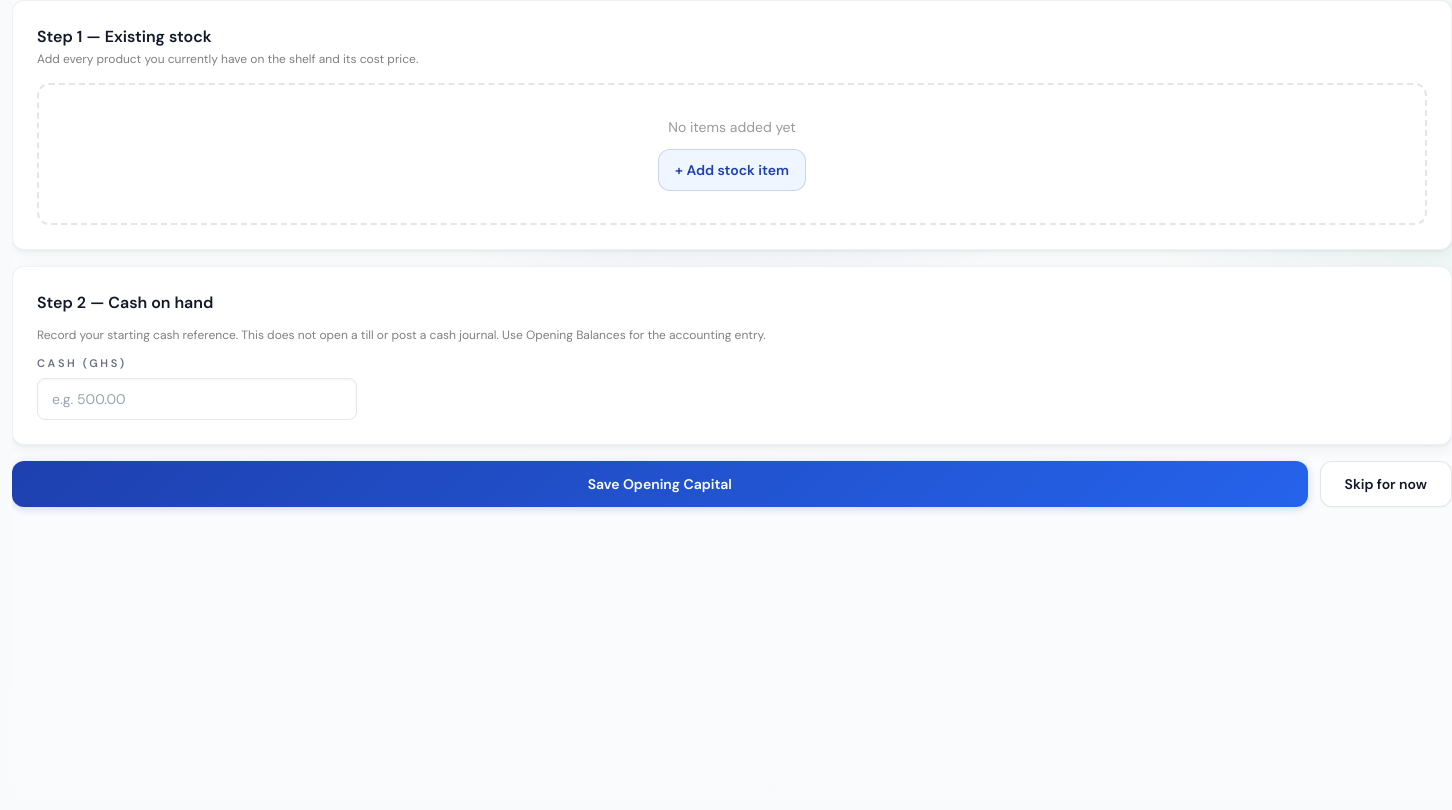
Test case: opening stock onboarding continuation › retains the result screen for established businesses and discloses missing costs
Click the button "+ Add stock item" at x=732, y=170, box left=658, top=149, right=806, bottom=191
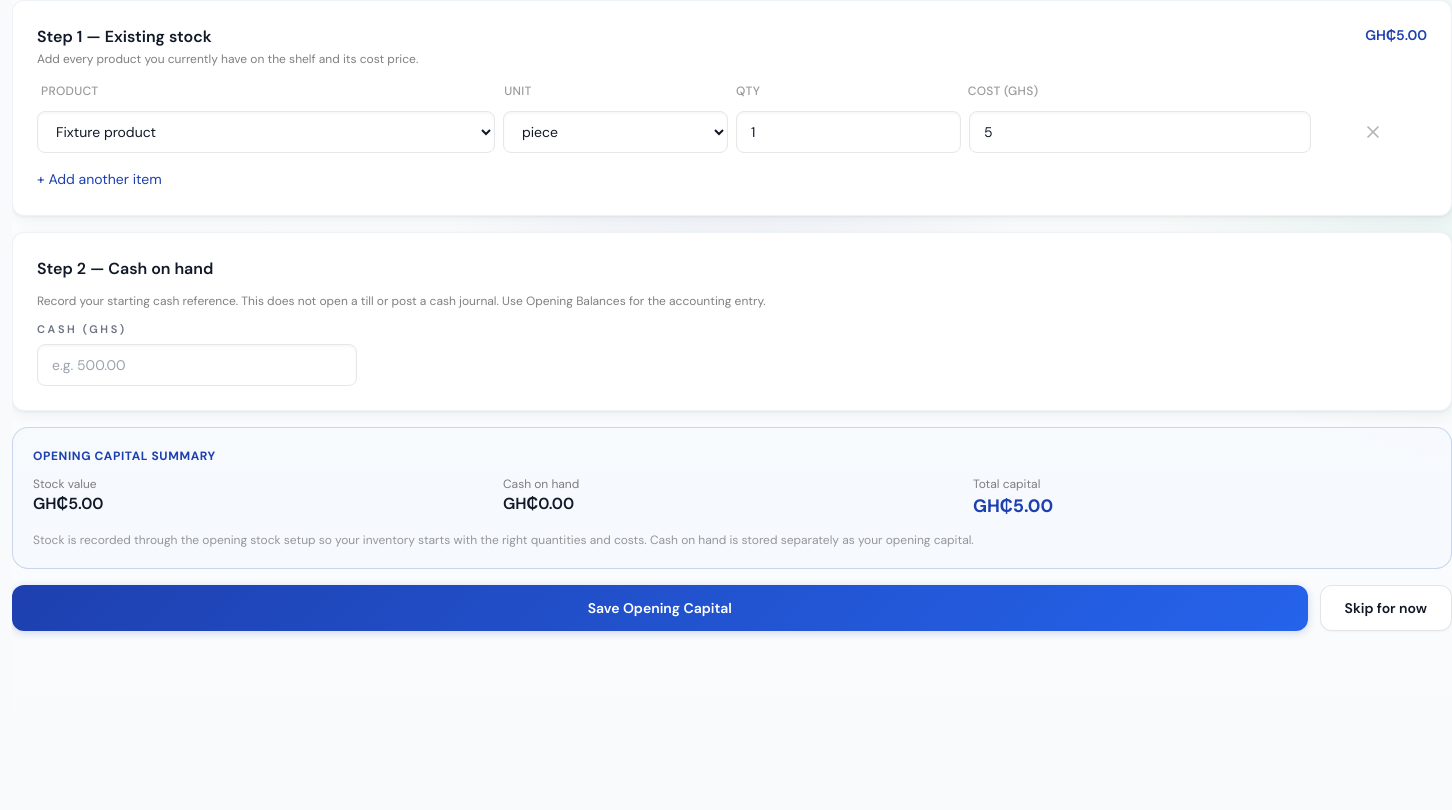
Click the button "Save Opening Capital" at x=660, y=608, box left=12, top=584, right=1308, bottom=630
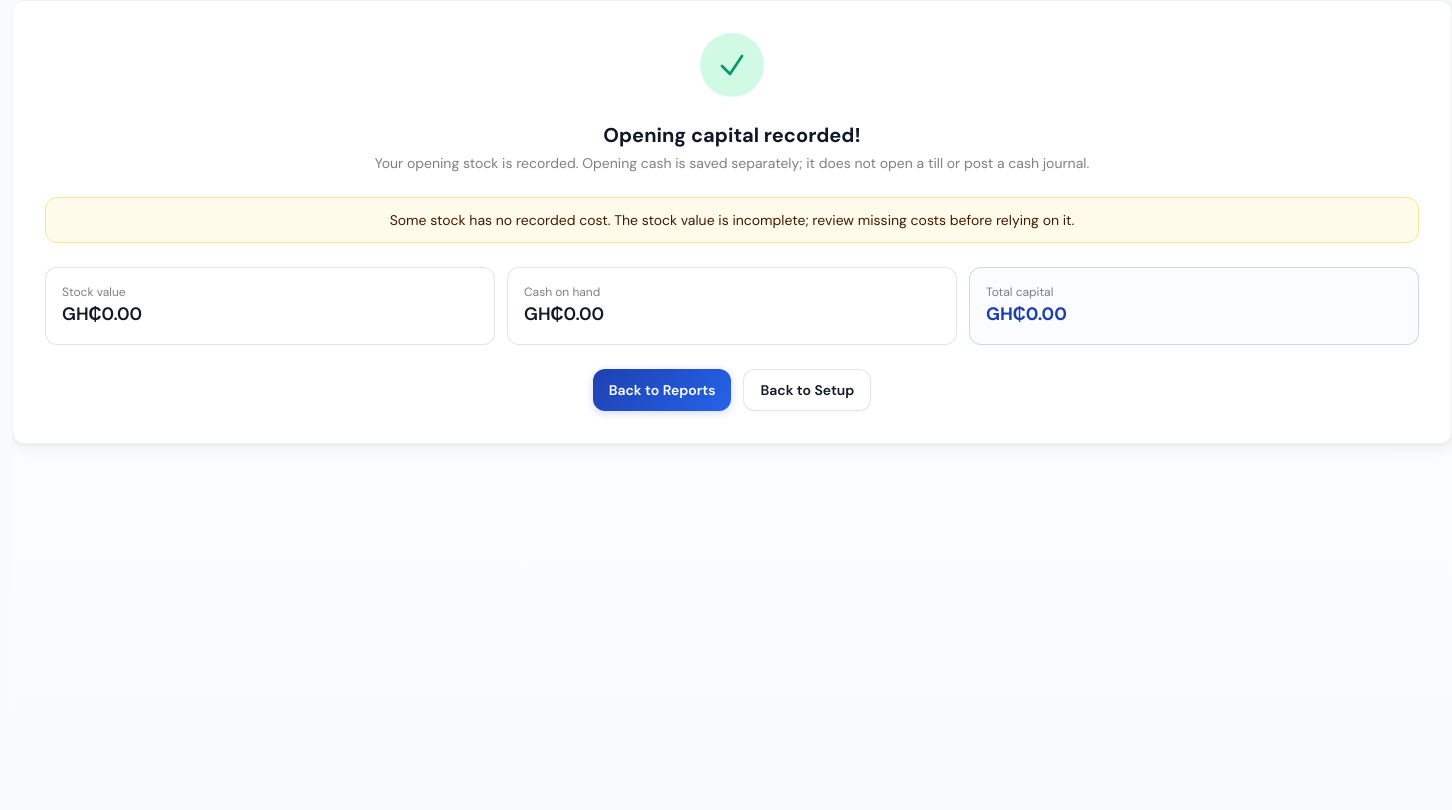
Check: the heading "Opening capital recorded!" is shown, box left=603, top=122, right=861, bottom=148
Check: the message shows "stock value is incomplete", box left=390, top=211, right=1074, bottom=229
